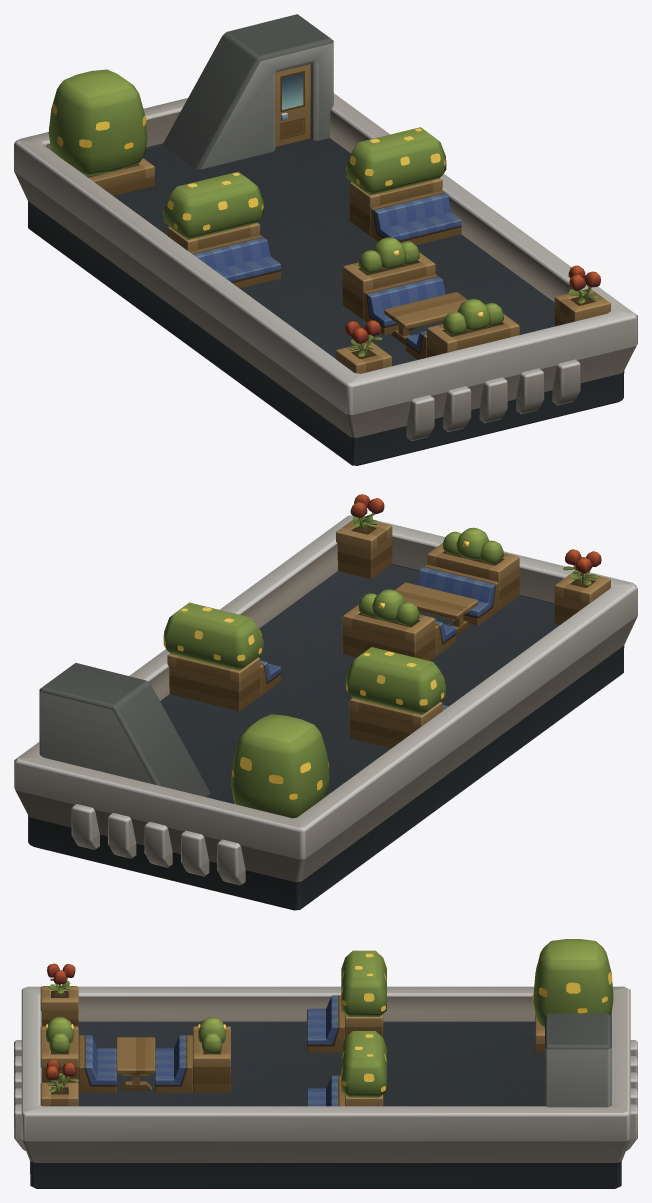
File: office_building_type2_roof_cream_deco.fbx
3 renders of one model, top to bottom at view 1: azimuth 30°, elevation 25°; view 2: azimuth 150°, elevation 25°; view 3: azimuth 270°, elevation 25°, orthographic. The views are drawn at different scales.
Visible parts, largest first — view 1: office_building_type2_roof_cream_deco, door_office_building_type2_roof_cream_deco; view 2: office_building_type2_roof_cream_deco; view 3: office_building_type2_roof_cream_deco.
Part boxes in pixels (x1,y1,x2,y2): office_building_type2_roof_cream_deco: [14, 14, 637, 465]; door_office_building_type2_roof_cream_deco: [275, 64, 310, 147]; office_building_type2_roof_cream_deco: [14, 494, 637, 910]; office_building_type2_roof_cream_deco: [14, 939, 637, 1188].
Size of the model in its own units: 800 by 413 by 1640.
